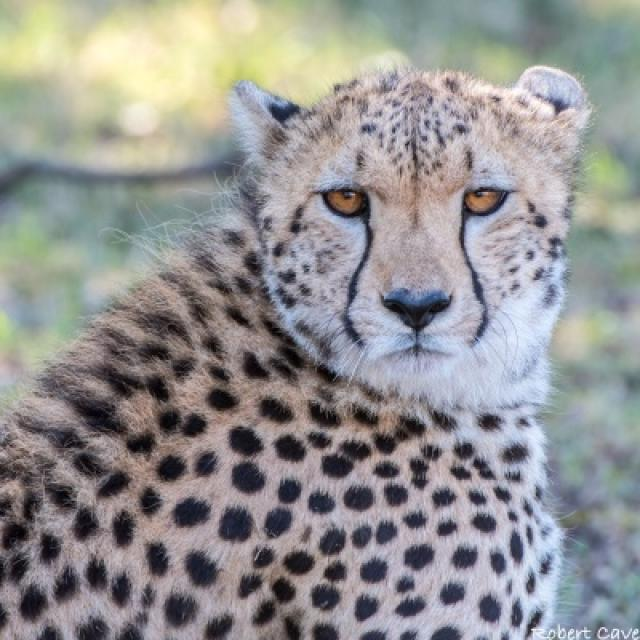Cheetah: (0, 66, 598, 638)
